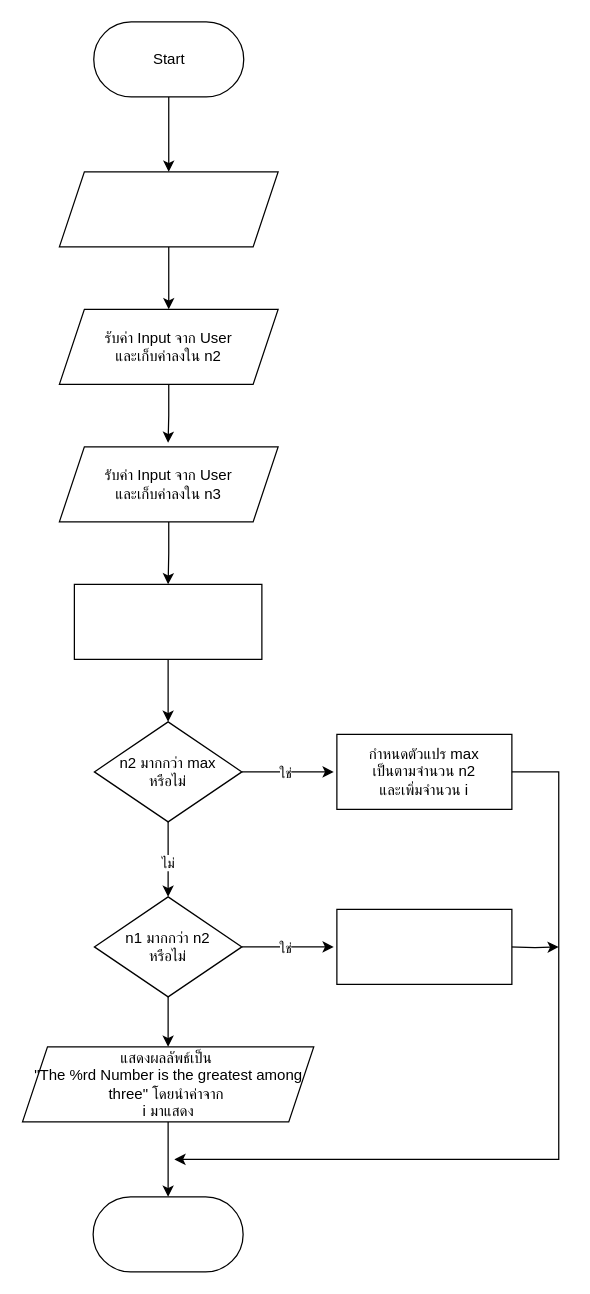
This 590x1294 diagram has some shape labels left out. The shapes that lost their labels are listed below. From the top down, each one's centre as x and y in pixels, then its label:
At pixel 168 209: "รับค่า Input จาก User และเก็บค่าลงใน n1".
At pixel 167 621: "กำหนดตัวแปร i เป็น 0 และ max เป็นตามจำนวน n1".
At pixel 424 946: "กำหนดตัวแปร max เป็นตามจำนวน n3 และเพิ่มจำนวน i".
At pixel 167 1234: "End".
